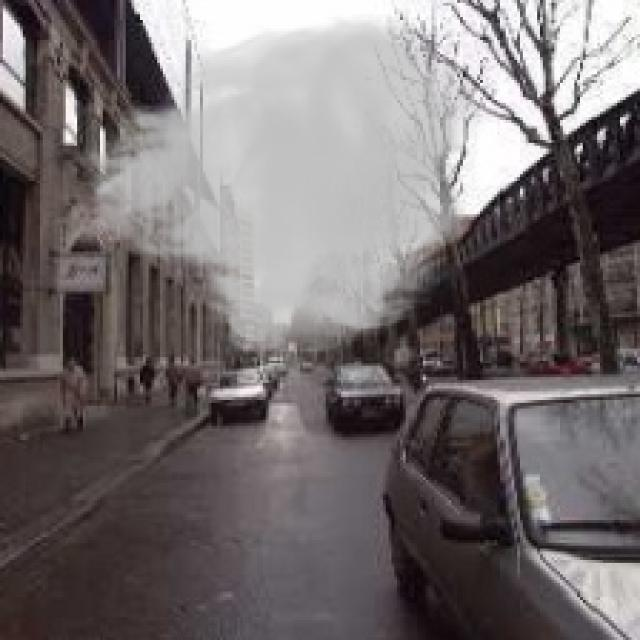smoke: (63, 12, 488, 357)
